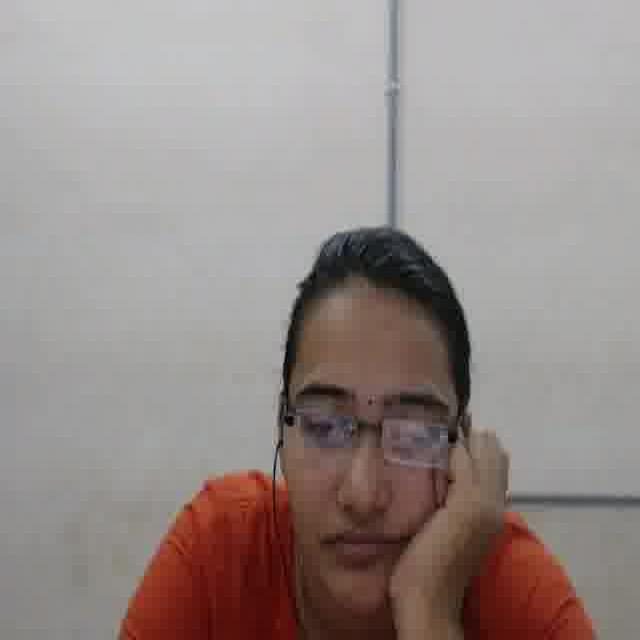Boredom: (274, 290, 457, 622)
